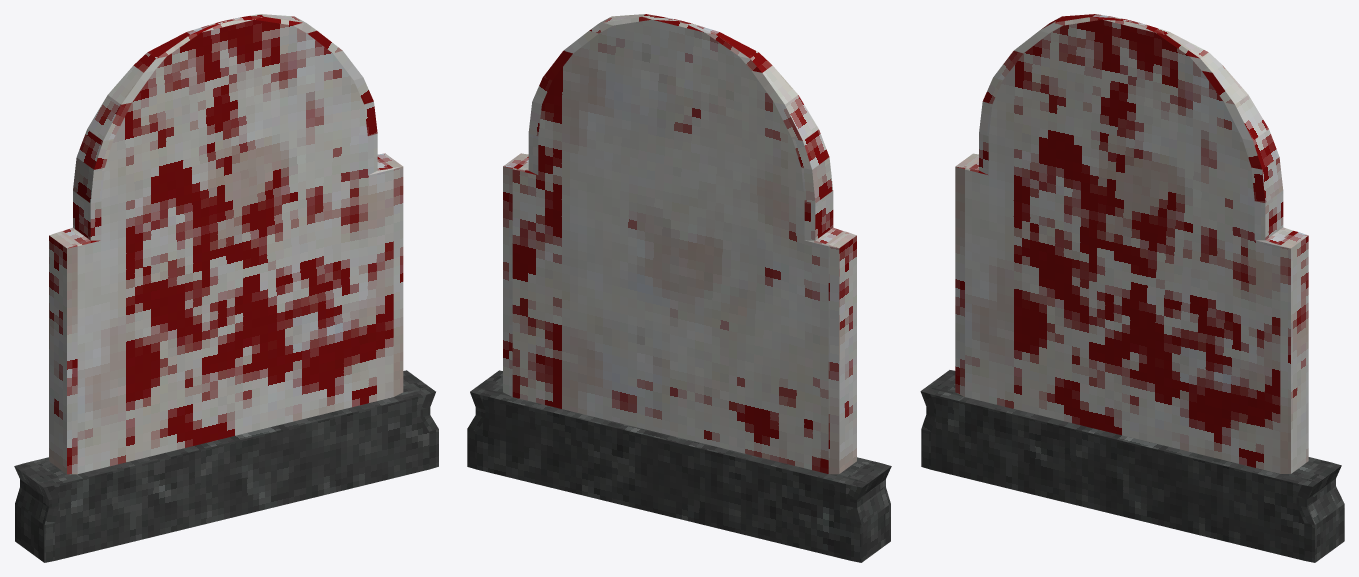
The model's file is Slab_2.fbx.
3 renders of one model, left to right at view 1: azimuth 30°, elevation 25°; view 2: azimuth 150°, elevation 25°; view 3: azimuth 330°, elevation 25°, orthographic.
Parts seen in each view (by area): view 1: Headstone 9; view 2: Headstone 9; view 3: Headstone 9.
Part boxes in pixels (x1,y1,x2,y2): Headstone 9: (14, 14, 438, 562); Headstone 9: (467, 14, 891, 562); Headstone 9: (920, 14, 1344, 562).
Bounding box in the file's own units: 143 × 167 × 19.04.
2 materials, 2 textured.
